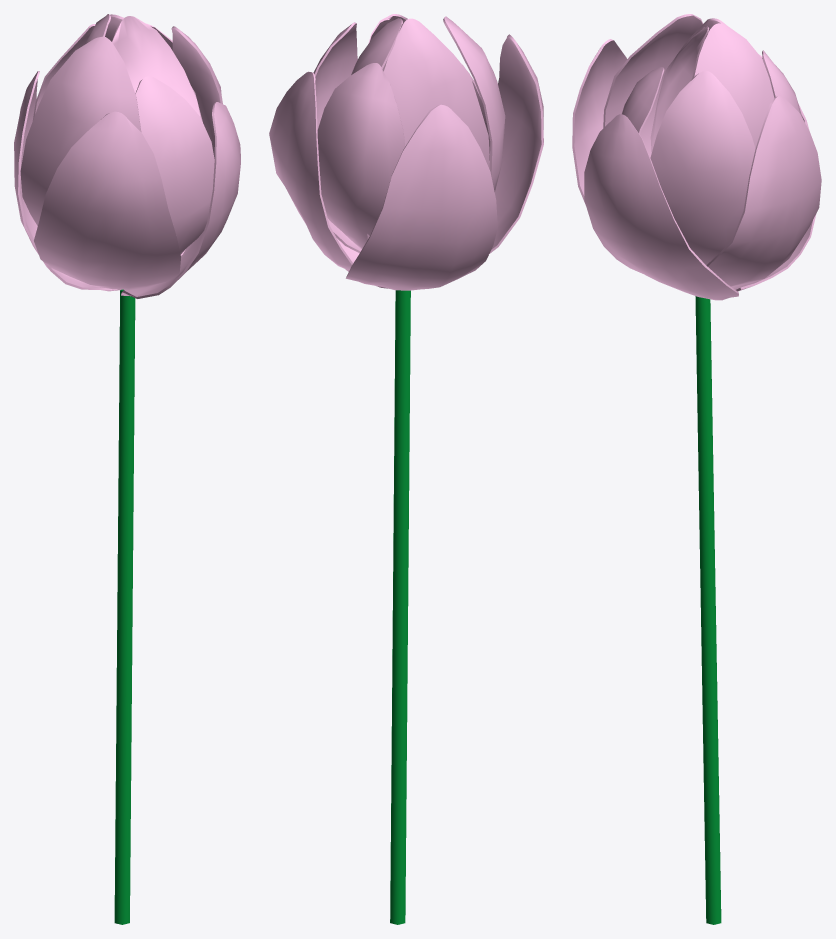
Rendered from LotusB.fbx.
The picture shows the model from 3 angles, left to right: view 1: azimuth 30°, elevation 25°; view 2: azimuth 150°, elevation 25°; view 3: azimuth 270°, elevation 25°; orthographic projection.
Parts seen in each view (by area): view 1: LotusB, root; view 2: LotusB, root; view 3: LotusB, root.
Part boxes in pixels (x1=…): LotusB: x1=14, y1=14, x2=240, y2=298; root: x1=114, y1=289, x2=135, y2=924; LotusB: x1=269, y1=14, x2=543, y2=290; root: x1=390, y1=290, x2=410, y2=924; LotusB: x1=572, y1=14, x2=821, y2=300; root: x1=695, y1=296, x2=721, y2=924.
Bounding box in the file's own units: 2.36 × 9.04 × 2.28.
